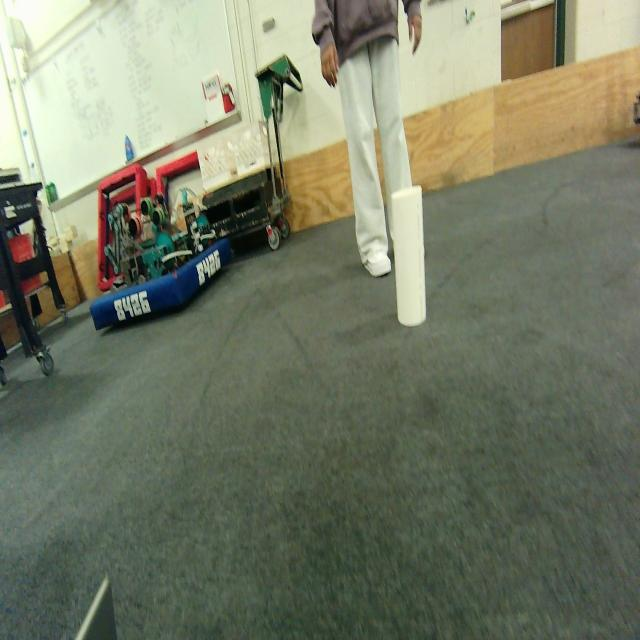coral: (379, 178, 442, 341)
